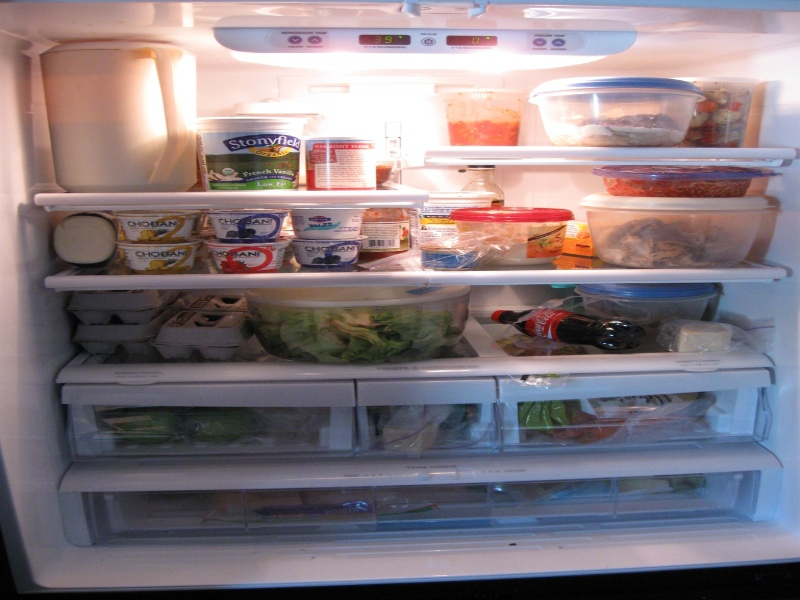refrigerator: (1, 1, 799, 592)
